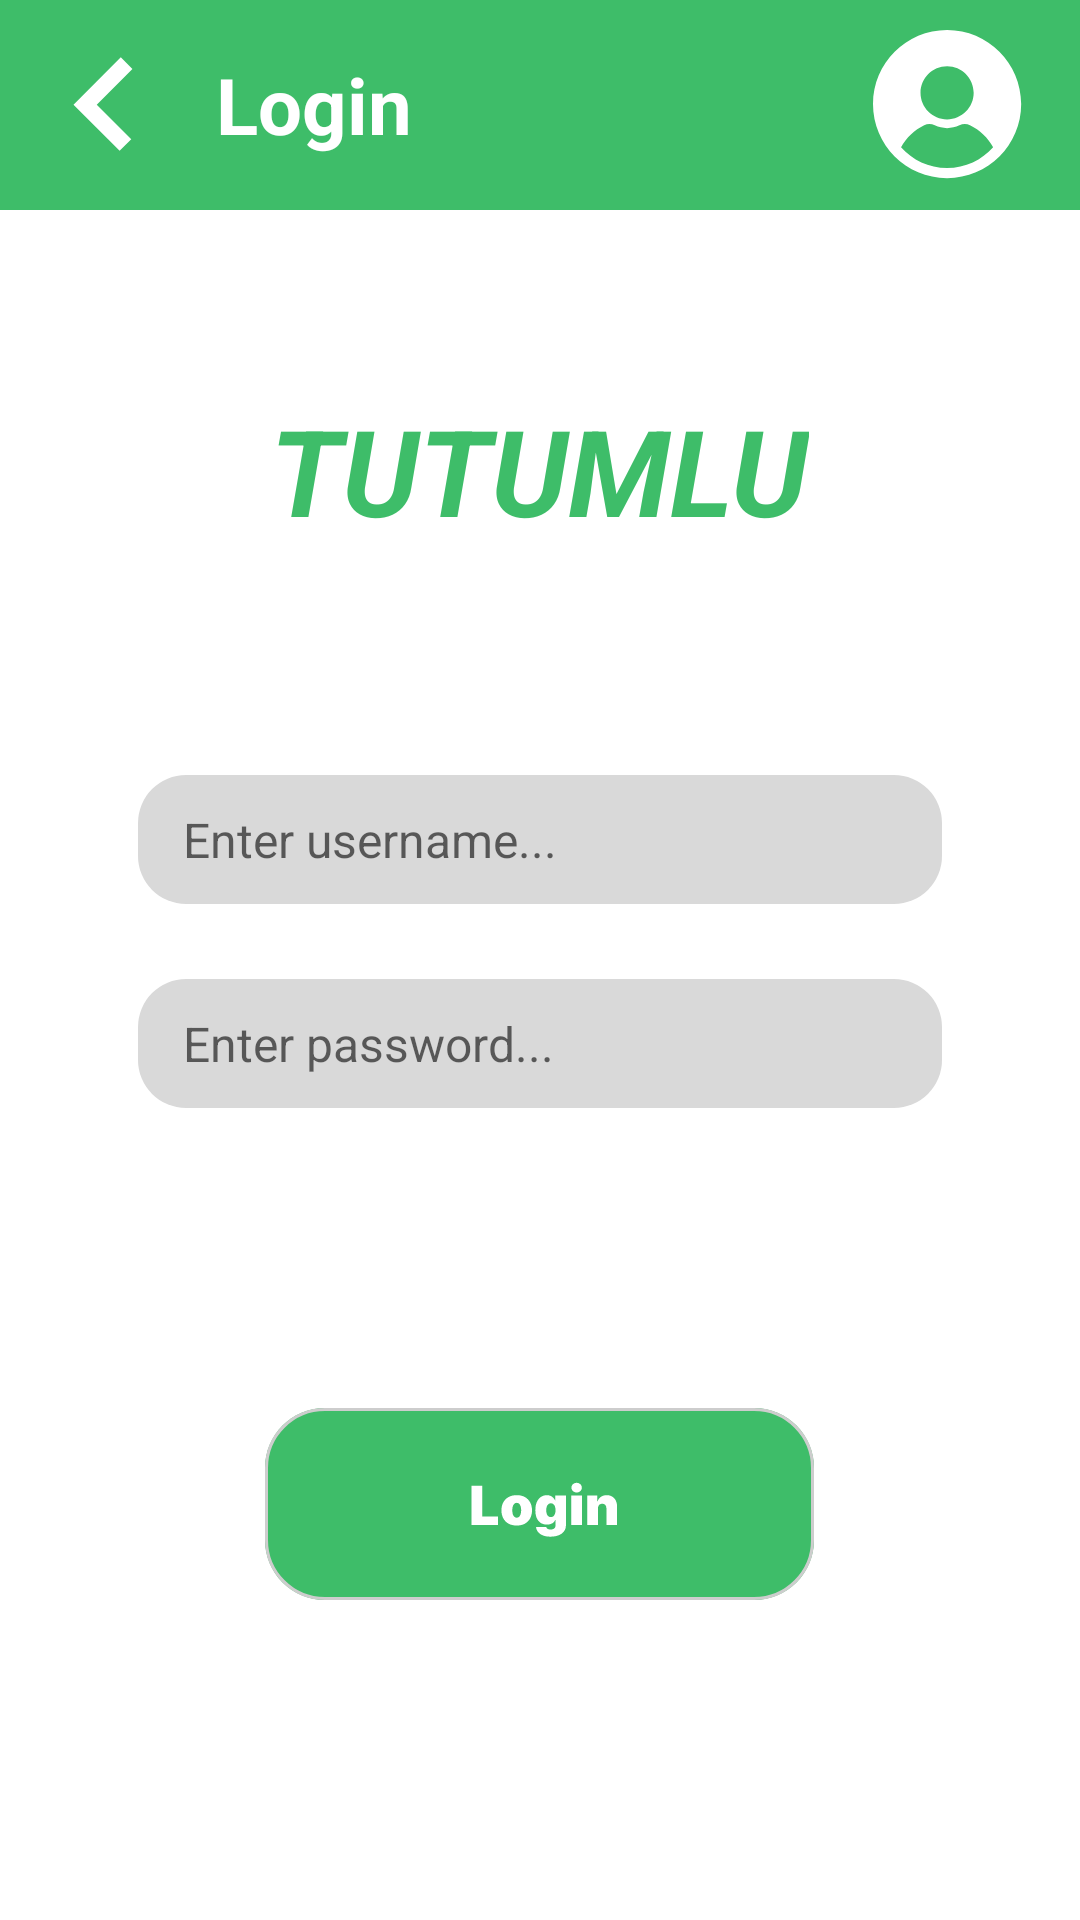

Icons on this 1080 x 1920 Android screen, each with its box as region(x1, y1, x2, y2):
back: region(73, 57, 132, 151)
